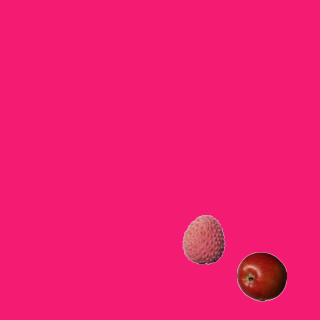Apple Braeburn: (236, 251, 286, 301)
Lychee: (178, 214, 228, 264)
